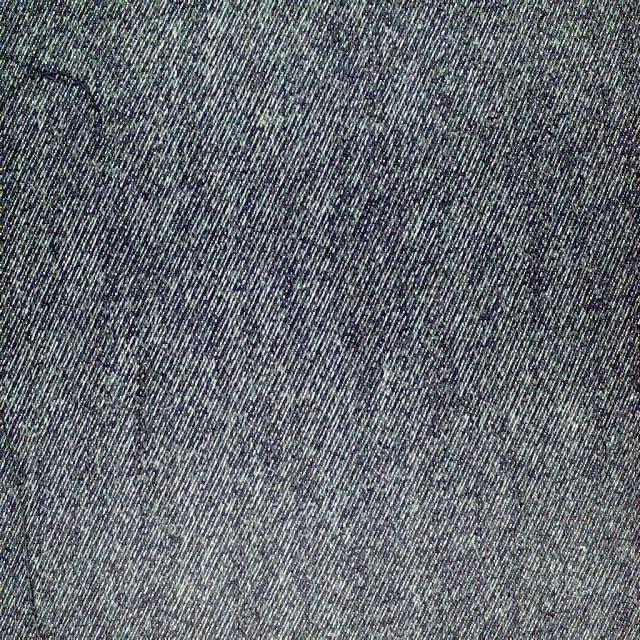defect: (9, 59, 115, 169), (6, 414, 53, 629)
